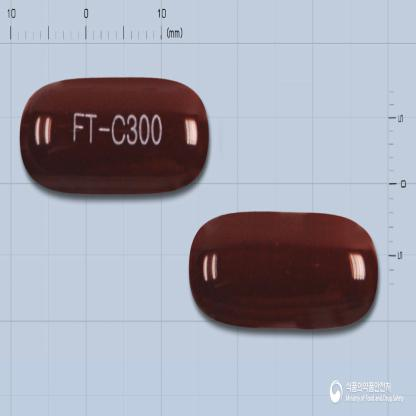pill: (18, 75, 210, 197), (188, 211, 380, 329)
